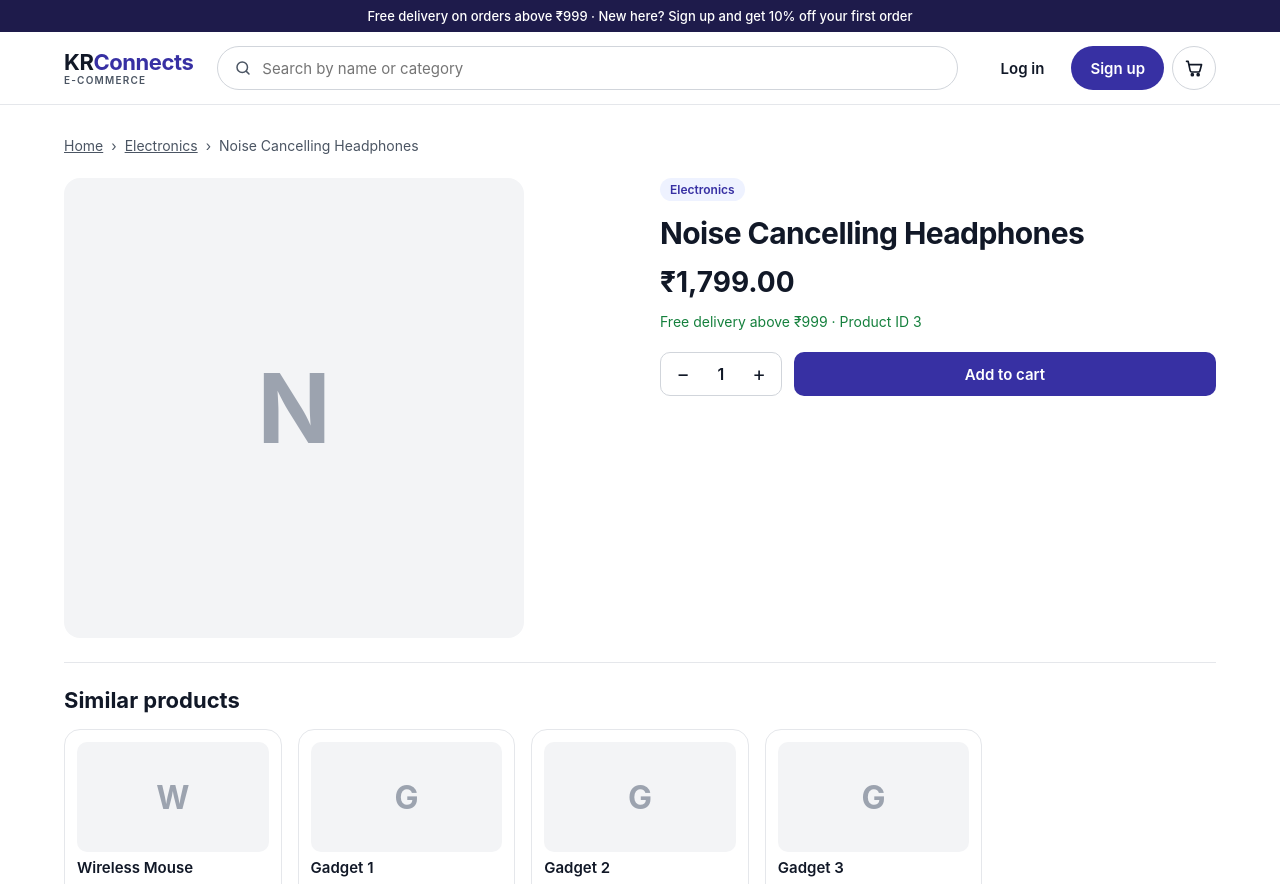
Scenario: ProductDetailsPage › adds the chosen quantity to the cart
The width and height of the screenshot is (1280, 884).
expect the heading "Noise Cancelling Headphones" is shown: met, box [660,215,1084,251]
Click the button named "Increase quantity" at [759, 374], box [737,353,781,395]
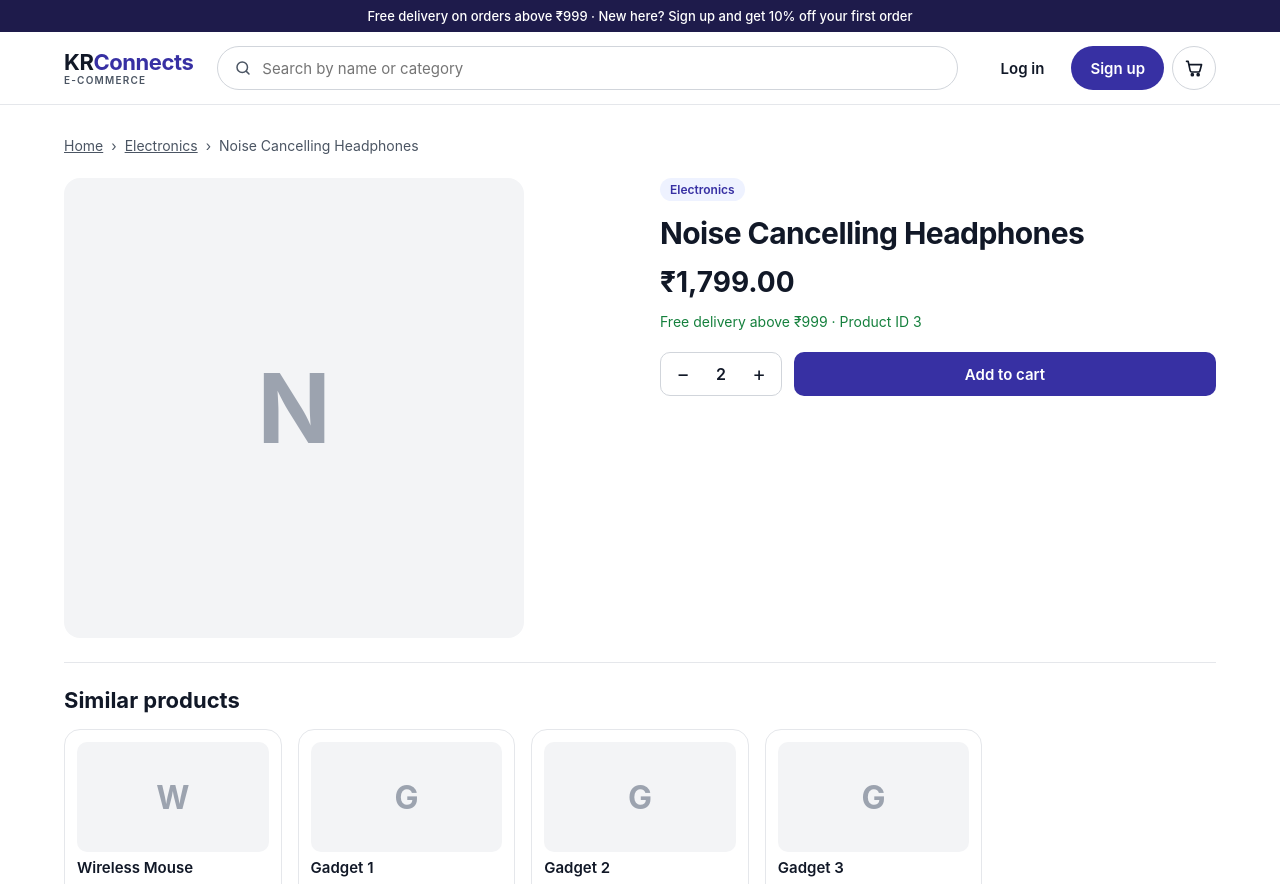
Click the button named "Increase quantity" at [759, 374], box [737,353,781,395]
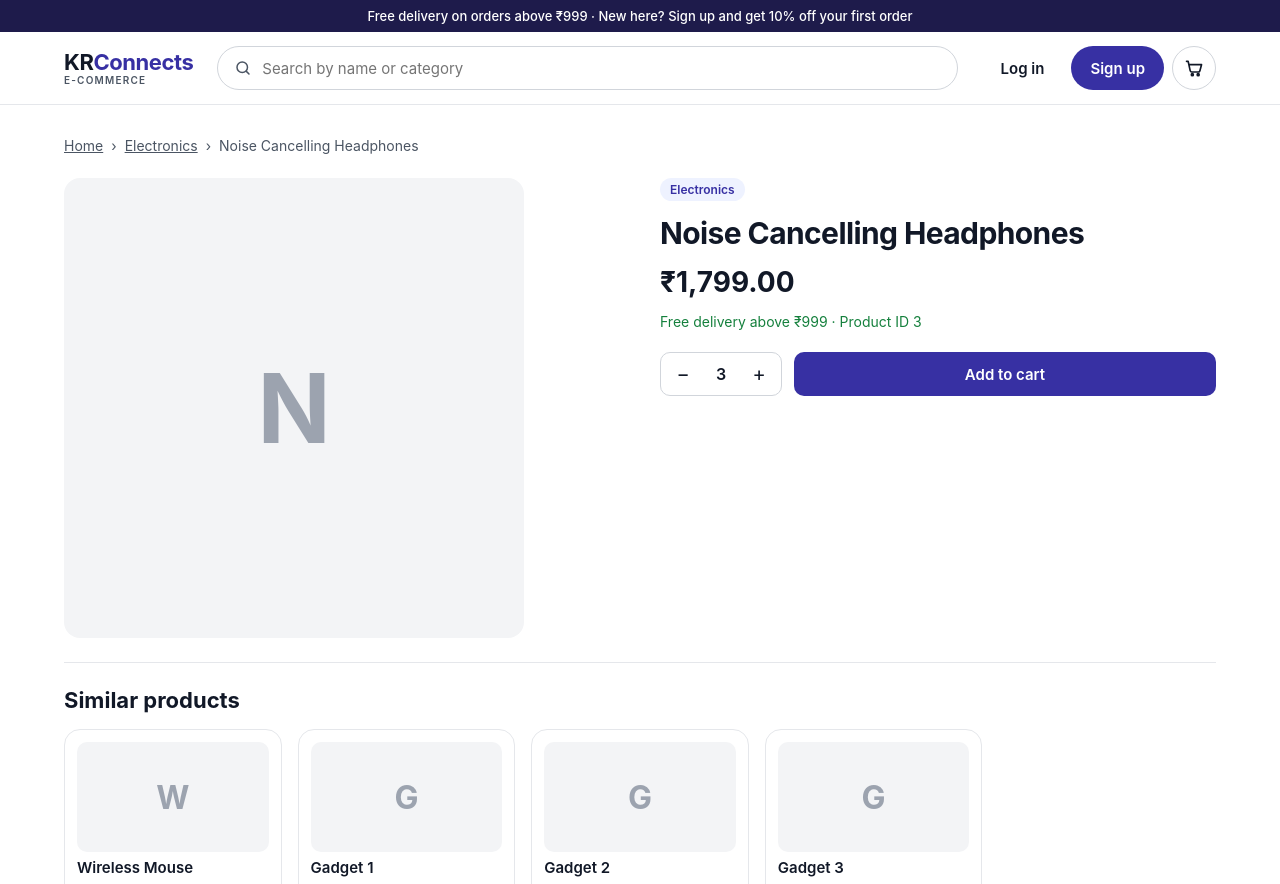
Click the button "Add to cart" at [1005, 374], box [794,352,1216,396]
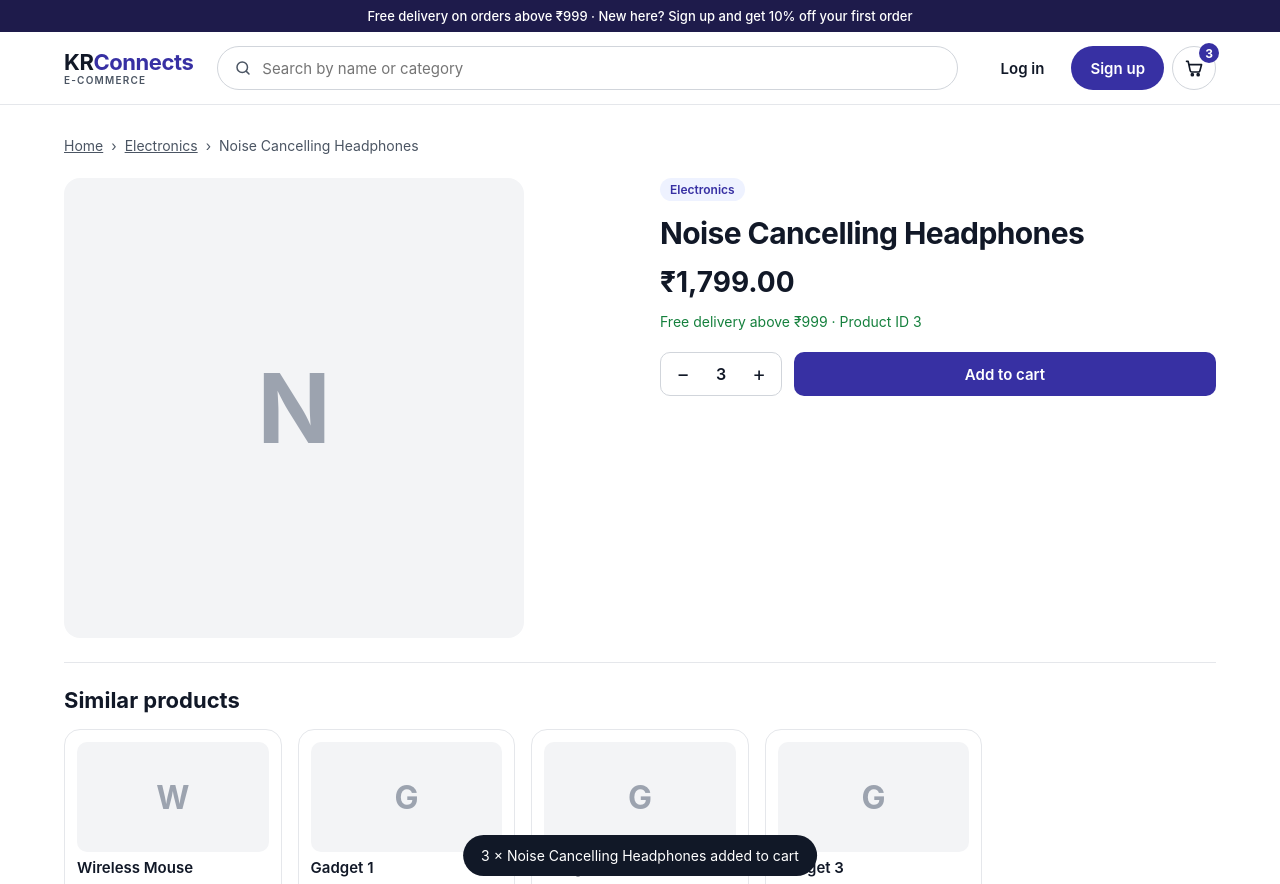
expect the link named "Cart, 3 items" is shown: met, box [1172,46,1216,90]
